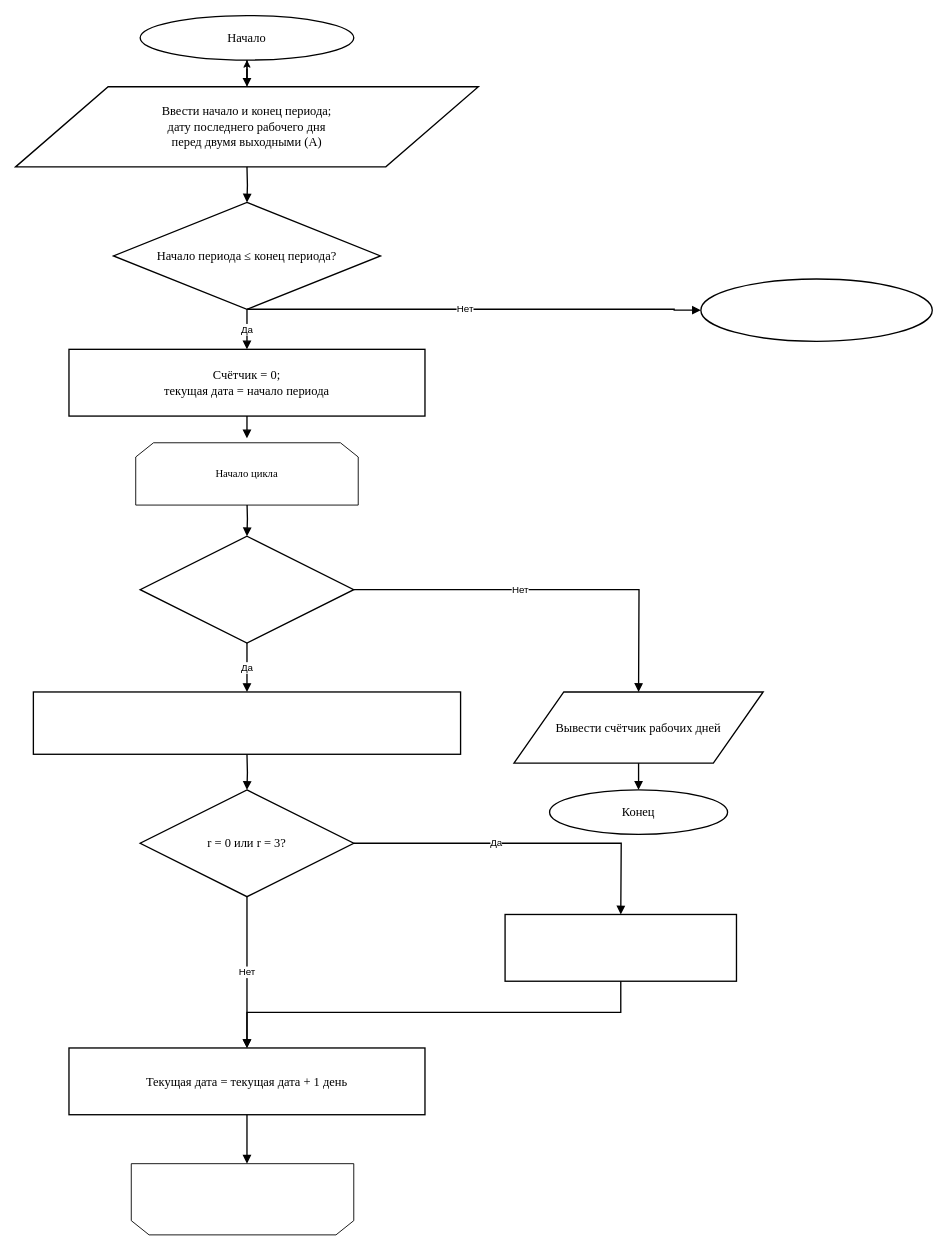
Some shapes in this 949 by 1251 pixel diagram are drawn without their labels. The shapes that lost their labels are listed below. From the top down, each one's centre as x and y in pixels, then its label:
At pixel 816 310: "Ошибка: неверный период".
At pixel 246 589: "Текущая дата ≤ конец периода?".
At pixel 246 723: "r = ((текущая дата − A) mod 4 + 4) mod 4".
At pixel 620 947: "Счётчик = счётчик + 1".
At pixel 242 1199: "Конец цикла".
